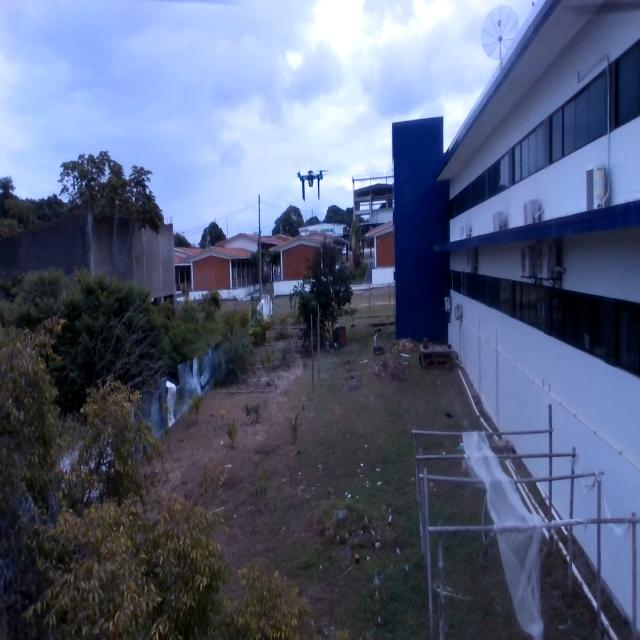-uav-: (292, 162, 334, 214)
